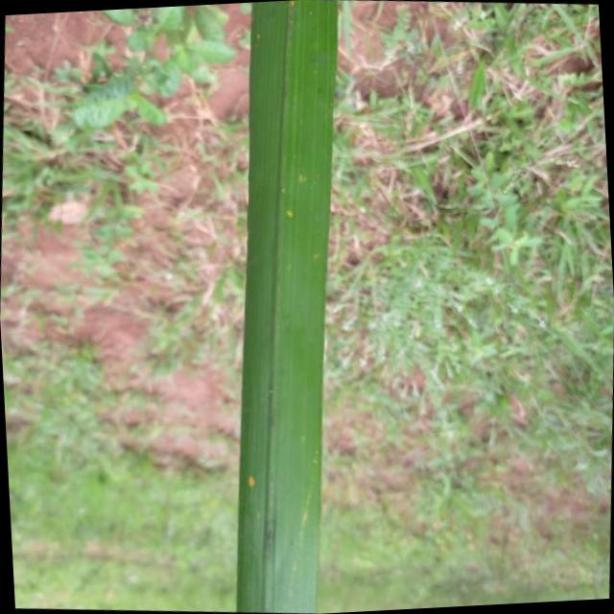Kalium: (240, 3, 339, 614)
